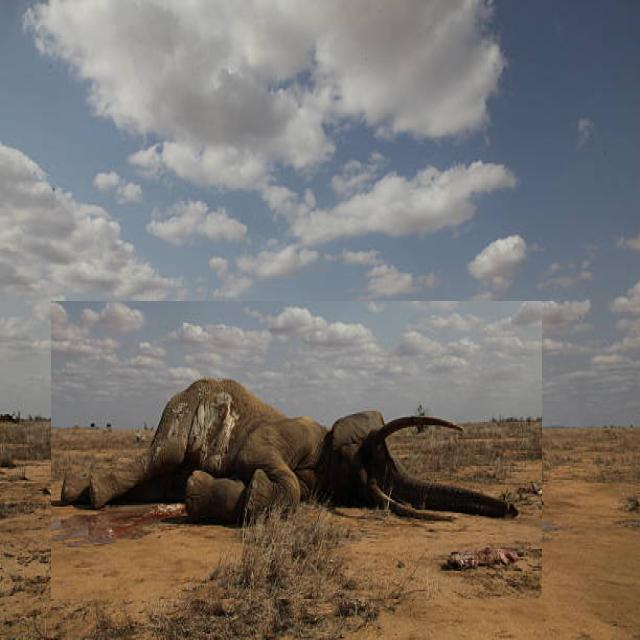elephant: (105, 331, 517, 564)
